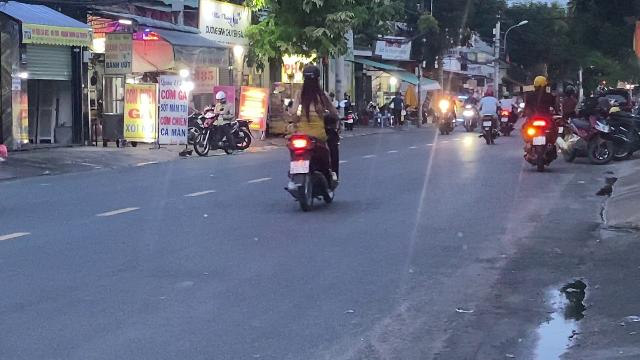helmet: (300, 64, 322, 86)
licenseplate: (290, 160, 310, 174)
motorcyclist: (283, 64, 343, 210)
